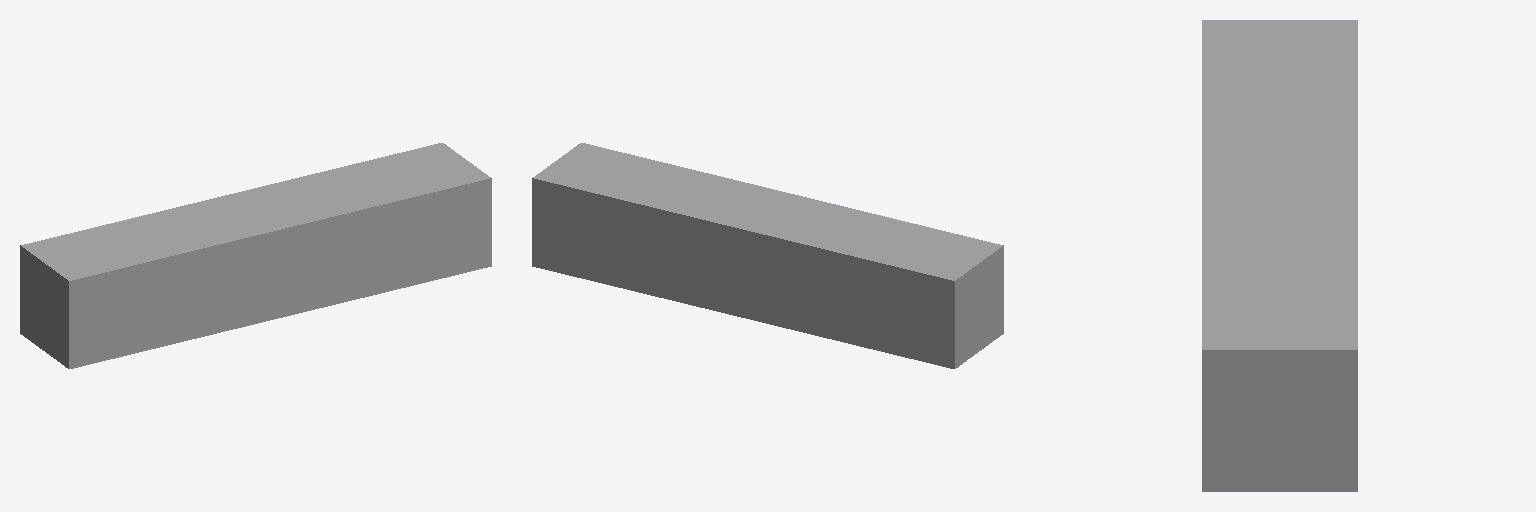
robot.urdf — car:
<?xml version="1.0"?>
<robot name="car">
    <material name="grey">
        <color rgba="0.7 0.7 0.7 1.0"/>
    </material>

    <link name="base">
        <visual>
            <origin rpy="1.5707 0 1.5707" xyz="0 0 0.24"/>
            <geometry>
                <mesh scale="0.35 0.35 0.35" filename="package://car/Jeep.obj"/>
            </geometry>
            <material name="grey"/>
        </visual>
        <collision>
            <origin rpy="1.5707 0 1.5707" xyz="0 0 0.24"/>
            <geometry>
                <mesh scale="0.35 0.35 0.35" filename="package://car/Jeep.obj"/>
            </geometry>
        </collision>
    </link>

    <link name="camera">
        <visual>
            <origin rpy="0 0 0" xyz="0 0 0"/>
            <geometry>
                <box size="0.1 0.02 0.02"/>
            </geometry>
            <material name="grey"/>
        </visual>
        <collision>
            <origin rpy="0 0 0" xyz="0 0 0.017"/>
            <geometry>
                <box size="0.1 0.02 0.02"/>
            </geometry>
        </collision>
    </link>

    <joint name="base_to_camera" type="continuous">
        <parent link="base"/>
        <child link="camera"/>
        <origin rpy="0 0 0" xyz="0.52 0 0.3"/>
        <axis xyz="0 0 1"/>
    </joint>

</robot>

--- What the picture shows (computed from the rendered views, not written in the file) ---
The picture shows the robot from 3 angles, left to right: view 1: azimuth 30°, elevation 25°; view 2: azimuth 150°, elevation 25°; view 3: azimuth 270°, elevation 25°; orthographic projection.
Robot: car — 2 links, 1 joints (1 continuous); root link base; default pose: all joints at 0.
Links seen in each view (by area): view 1: camera; view 2: camera; view 3: camera.
Boxes of the visible links, x1,y1,x2,y2 form: camera: (20,143,491,368); camera: (532,143,1003,368); camera: (1202,20,1357,491).
Size in the robot's own frame: 0.1 by 0.02 by 0.02 metres.
0 mesh visuals loaded from 1 distinct referenced files (none loaded); not drawn: 1 (reference not matched to a file when rendering).